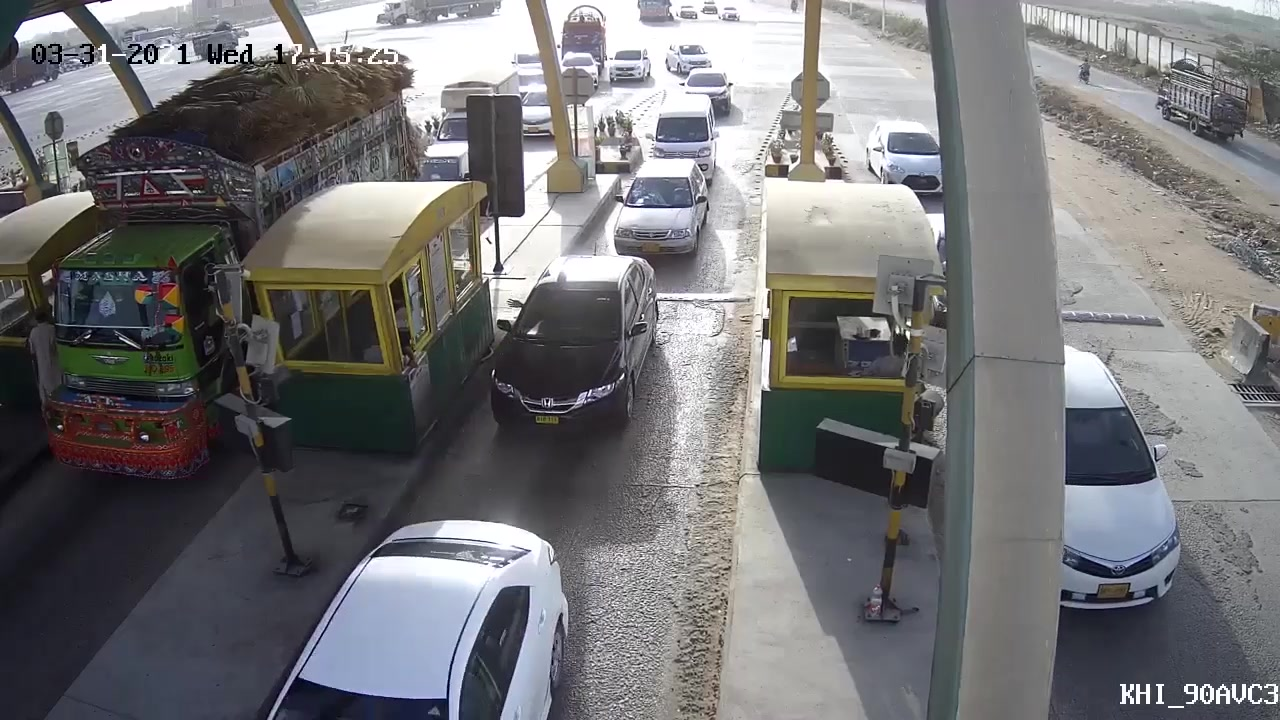F1: (477, 251, 672, 443), (608, 157, 712, 255)
